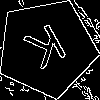K: (22, 23, 74, 79)
